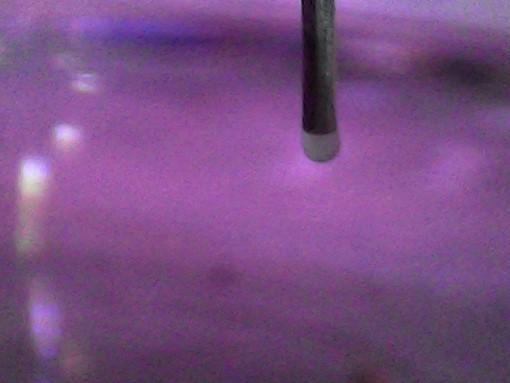water drop: (300, 126, 343, 164)
